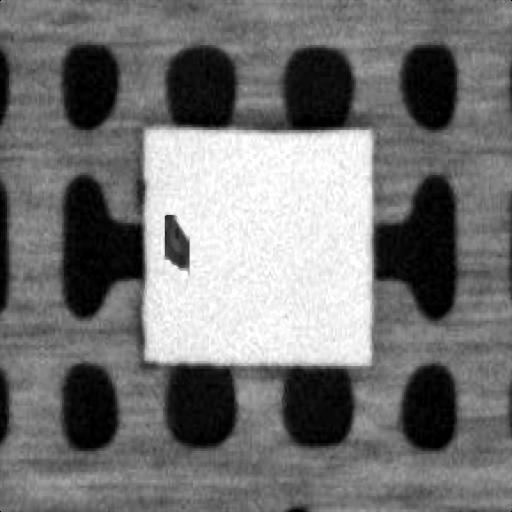DIE_INK: (163, 212, 188, 268)
